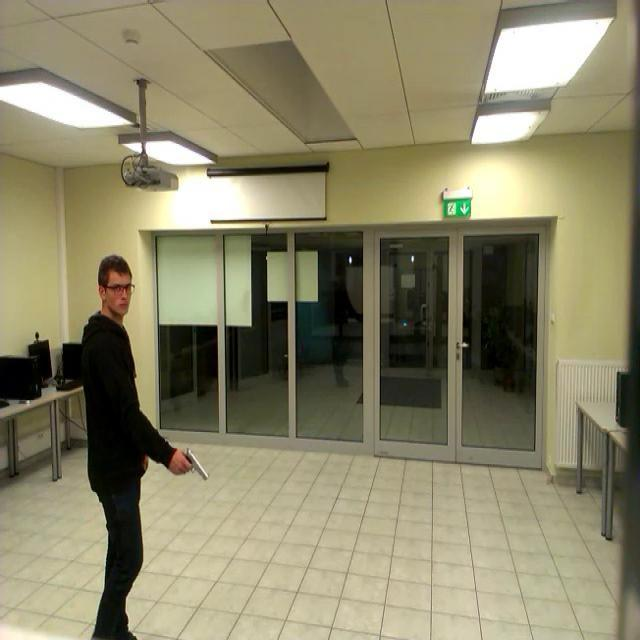weapon: (178, 449, 208, 483)
